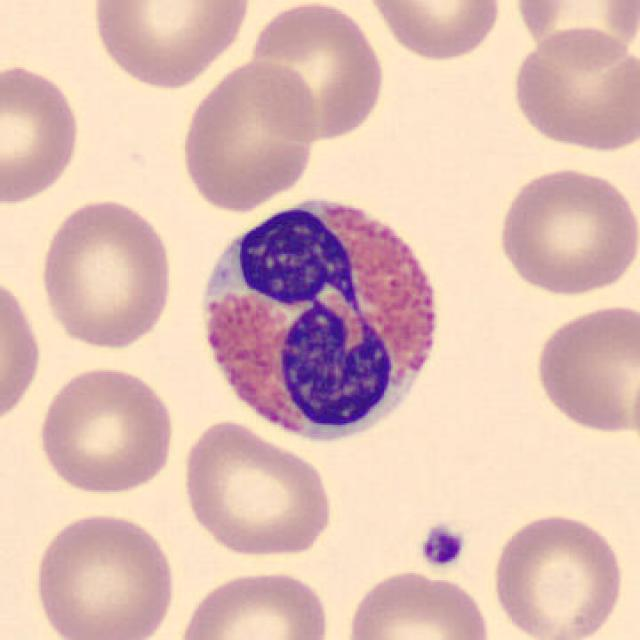Eosinophil: (185, 180, 457, 458)
Platelets: (416, 522, 469, 571)
RBC: (176, 56, 322, 214), (178, 418, 338, 561), (36, 194, 178, 351), (246, 0, 390, 145), (32, 362, 180, 498), (29, 508, 180, 640), (492, 162, 638, 298), (489, 508, 627, 640), (507, 23, 638, 155), (87, 0, 256, 92), (530, 300, 638, 437), (0, 60, 85, 208), (172, 566, 332, 640), (340, 566, 494, 640), (510, 0, 640, 71), (361, 0, 507, 63), (0, 268, 46, 432)
